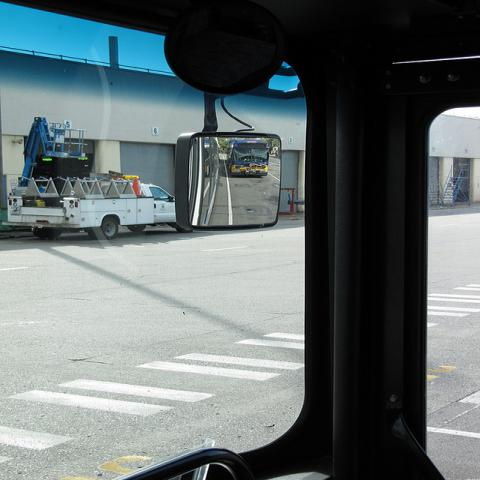truck: (2, 114, 193, 241)
